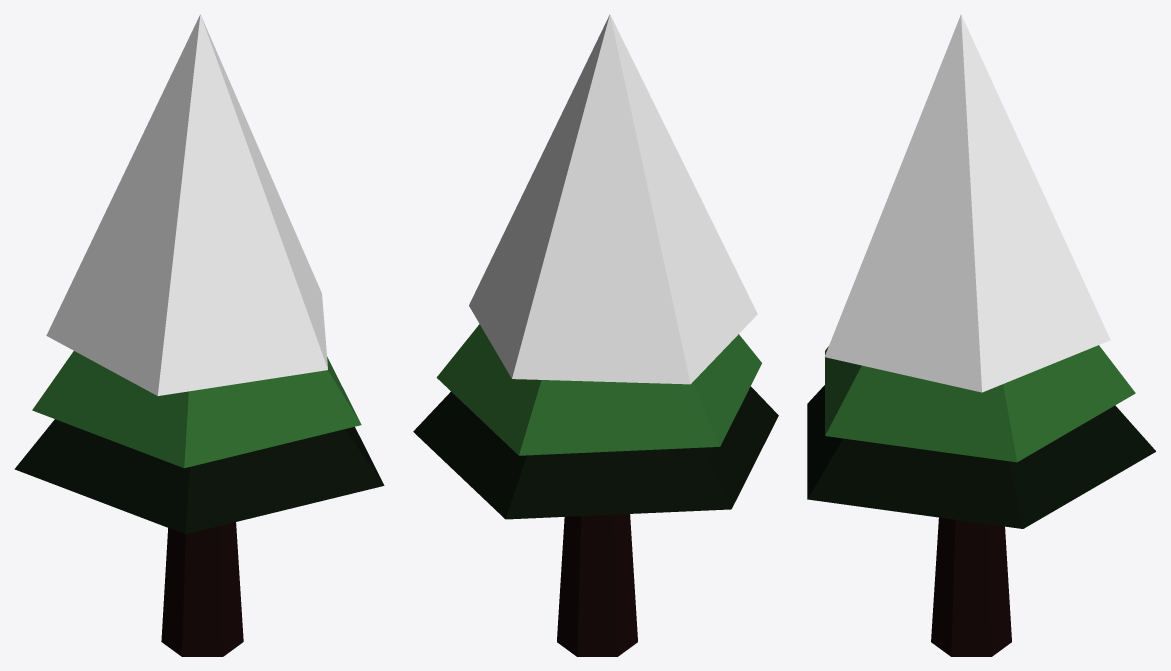
Rendered from tanne.obj.
3 views of the same model, side by side, from view 1: azimuth 30°, elevation 25°; view 2: azimuth 150°, elevation 25°; view 3: azimuth 270°, elevation 25° (orthographic).
Parts seen in each view (by area): view 1: Cone.000_Cone.196_white, Cone.000_Cone.196_green, Cone.000_Cone.196_darkwhite, Cone.000_Cone.196_brown; view 2: Cone.000_Cone.196_white, Cone.000_Cone.196_green, Cone.000_Cone.196_darkwhite, Cone.000_Cone.196_brown; view 3: Cone.000_Cone.196_white, Cone.000_Cone.196_green, Cone.000_Cone.196_darkwhite, Cone.000_Cone.196_brown.
Part boxes in pixels (x1,y1,x2,y2): Cone.000_Cone.196_white: (46,14,327,395); Cone.000_Cone.196_green: (14,419,384,534); Cone.000_Cone.196_darkwhite: (32,351,361,468); Cone.000_Cone.196_brown: (161,522,243,656); Cone.000_Cone.196_white: (469,14,757,384); Cone.000_Cone.196_green: (413,386,778,519); Cone.000_Cone.196_darkwhite: (436,324,761,455); Cone.000_Cone.196_brown: (557,514,637,656); Cone.000_Cone.196_white: (824,14,1110,392); Cone.000_Cone.196_green: (807,385,1155,528); Cone.000_Cone.196_darkwhite: (825,345,1135,462); Cone.000_Cone.196_brown: (931,517,1011,656).
Bounding box in the file's own units: 25.54 × 47.96 × 24.29.
